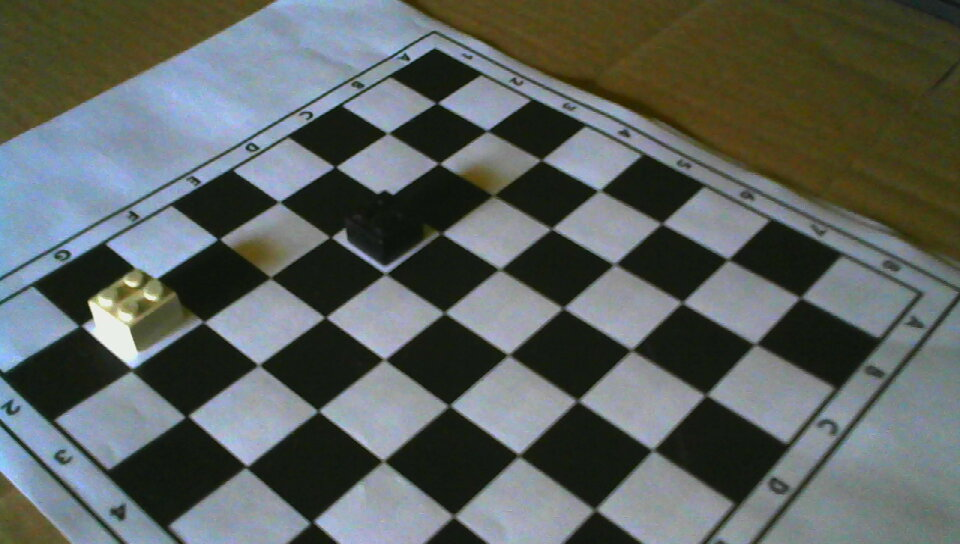bp: (345, 190, 425, 263)
wp: (87, 268, 186, 348)
